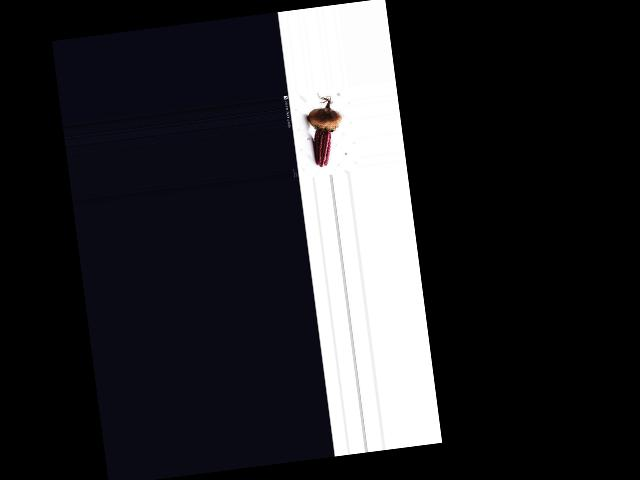beet: (304, 91, 347, 167)
